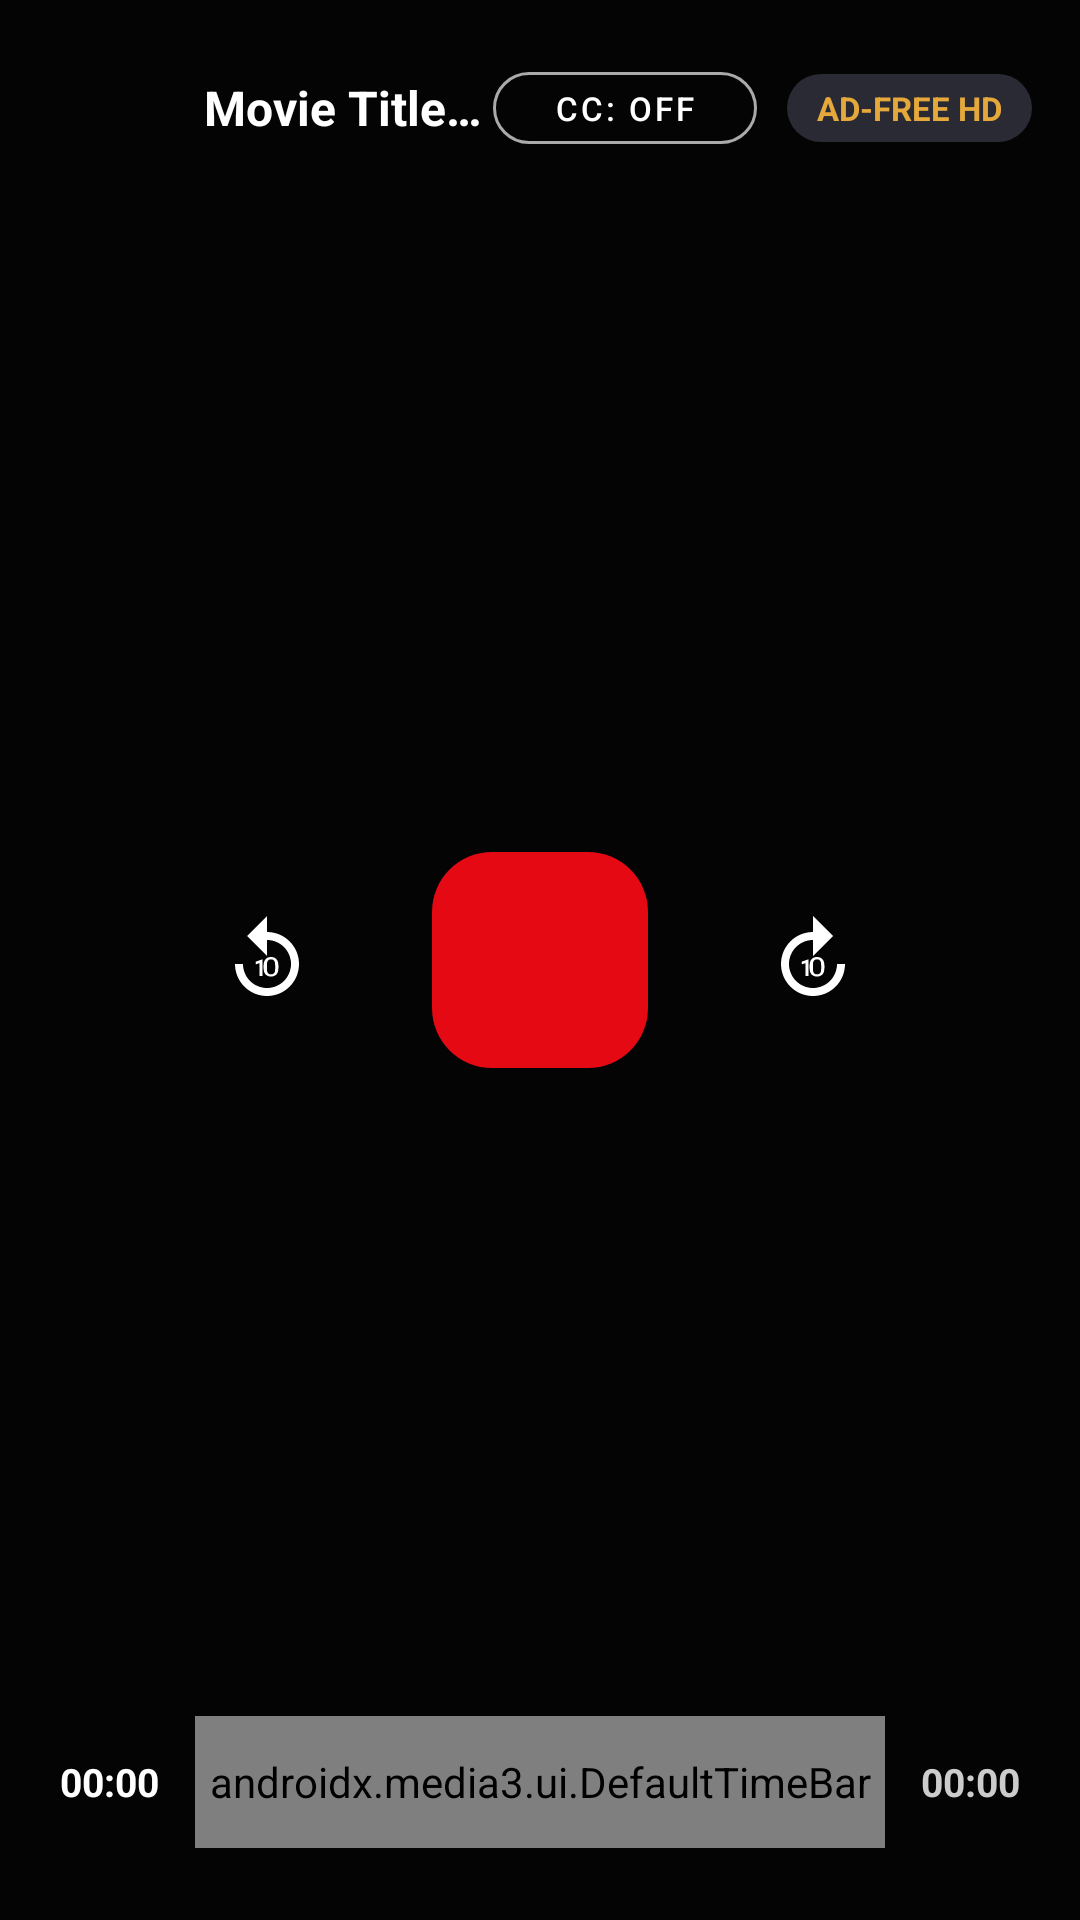

Icons on this 1080*1920 Android screen, each with its box as bbox(x1, y1, x2, y2):
Forward 10 seconds: bbox(781, 916, 845, 996)
Rewind 10 seconds: bbox(235, 916, 299, 996)
